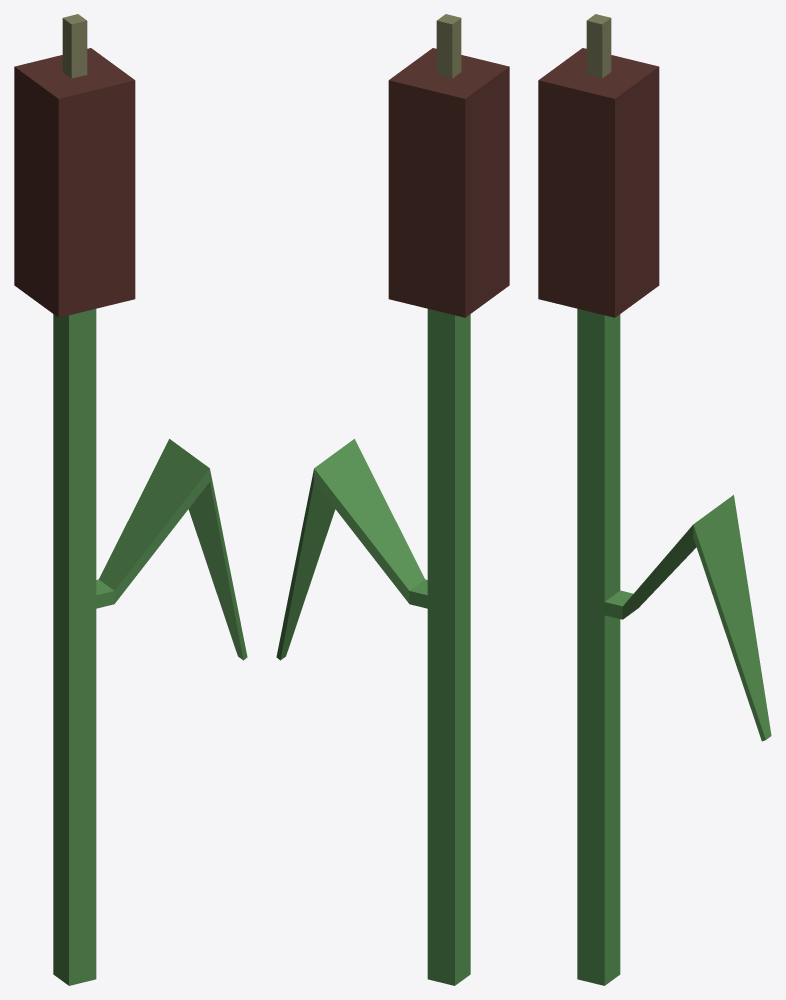
Rendered from item_cattail.fbx.
3 views of the same model, side by side, from view 1: azimuth 30°, elevation 25°; view 2: azimuth 150°, elevation 25°; view 3: azimuth 330°, elevation 25° (orthographic).
Visible parts, largest first — view 1: item_cattail; view 2: item_cattail; view 3: item_cattail.
Part boxes in pixels (bbox=[...]): item_cattail: bbox=[14, 14, 247, 985]; item_cattail: bbox=[276, 14, 509, 985]; item_cattail: bbox=[538, 14, 771, 985].
Size of the model in its own units: 1.53 by 0.5623 by 6.72.
